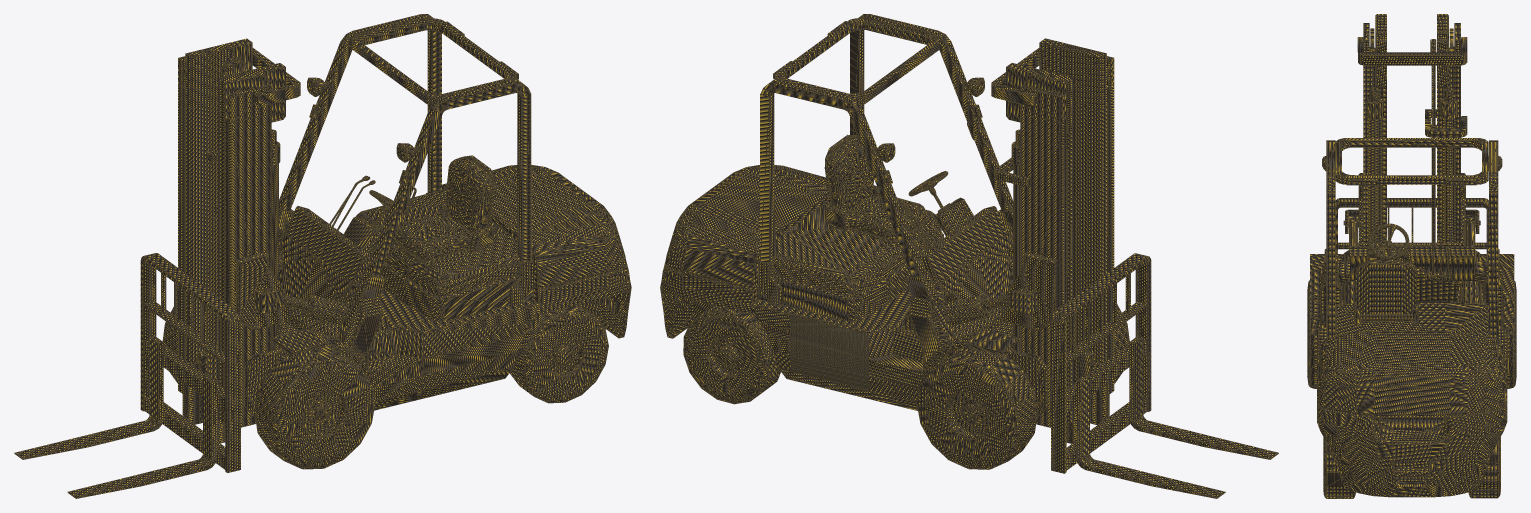
The model's file is Neoflycargo_forklift_01.gltf.
The picture shows the model from 3 angles, left to right: view 1: azimuth 30°, elevation 25°; view 2: azimuth 150°, elevation 25°; view 3: azimuth 270°, elevation 25°; orthographic projection. The views are drawn at different scales.
Visible parts, largest first — view 1: low_forkliftexport.002, low_forkliftexport.001, low_forkliftexport, low_forkliftexport.003; view 2: low_forkliftexport.002, low_forkliftexport.001, low_forkliftexport, low_forkliftexport.003, low_forkliftexport.005; view 3: low_forkliftexport.002, low_forkliftexport.003, low_forkliftexport.001, low_forkliftexport.
Part boxes in pixels (x1,y1,x2,y2): low_forkliftexport.002: (178, 14, 631, 427); low_forkliftexport.001: (14, 253, 240, 498); low_forkliftexport: (162, 306, 375, 469); low_forkliftexport.003: (509, 304, 608, 403); low_forkliftexport.002: (660, 14, 1114, 427); low_forkliftexport.001: (1051, 253, 1278, 498); low_forkliftexport: (916, 304, 1129, 469); low_forkliftexport.003: (683, 305, 780, 404); low_forkliftexport.005: (790, 315, 869, 390); low_forkliftexport.002: (1310, 14, 1514, 497); low_forkliftexport.003: (1323, 436, 1500, 498); low_forkliftexport.001: (1335, 198, 1488, 253); low_forkliftexport: (1307, 280, 1516, 388).
Size of the model in its own units: 4.03 by 2.6 by 1.44.
